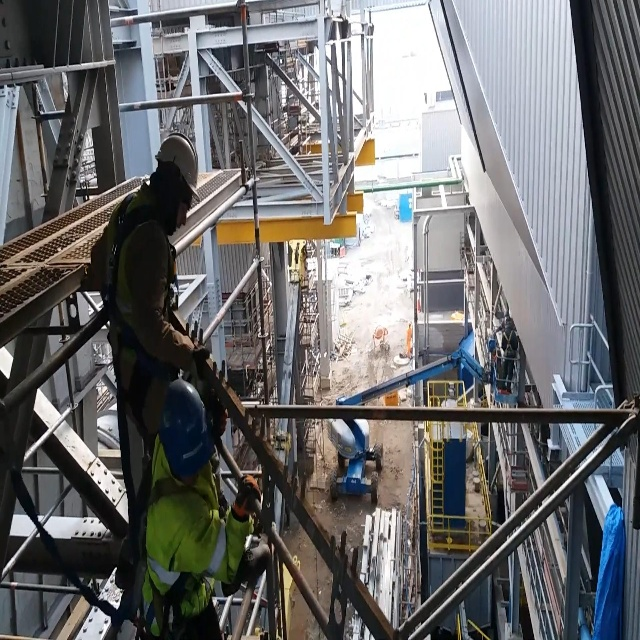Arnes_seguridad: (94, 187, 183, 442), (126, 446, 220, 631)
